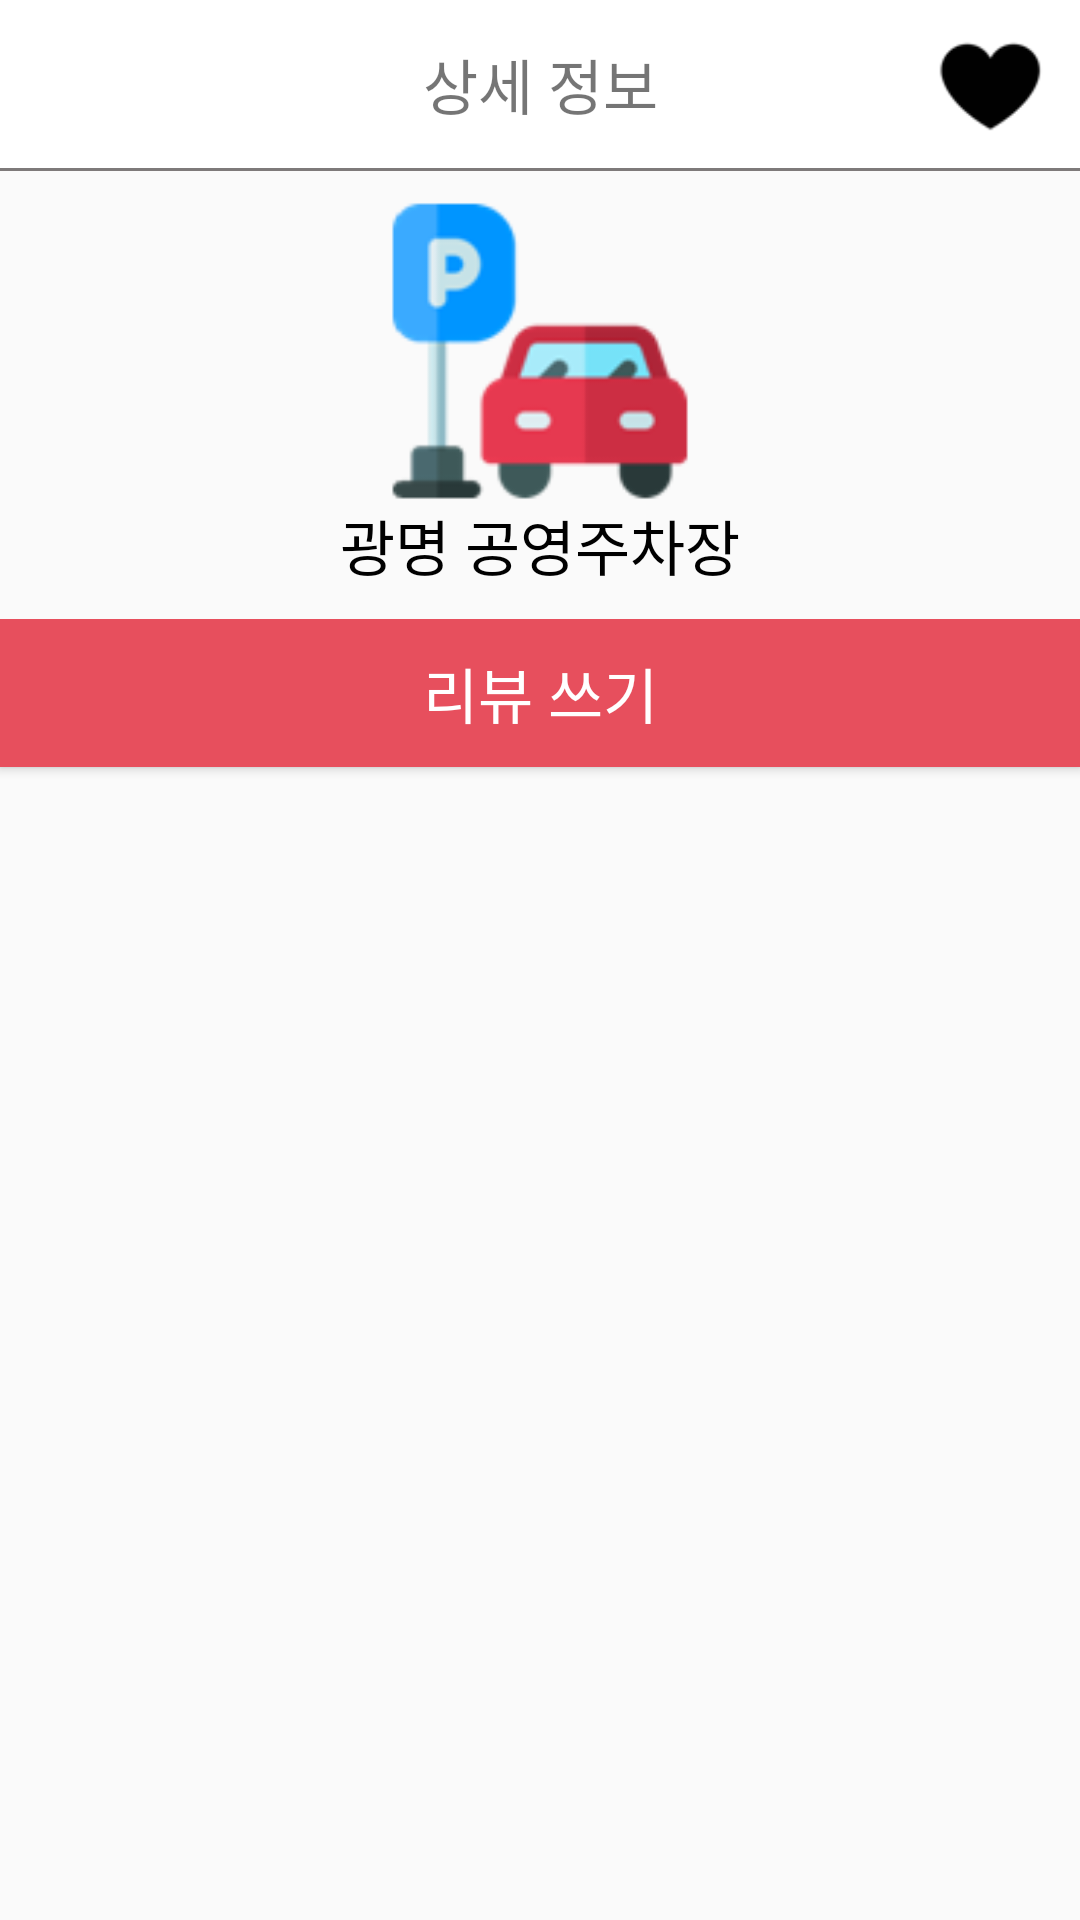

Where icons sit on this 1080w x 1920h app screen, as BBox(x1, y1, x2, y2):
blackheart: BBox(940, 43, 1041, 130)
